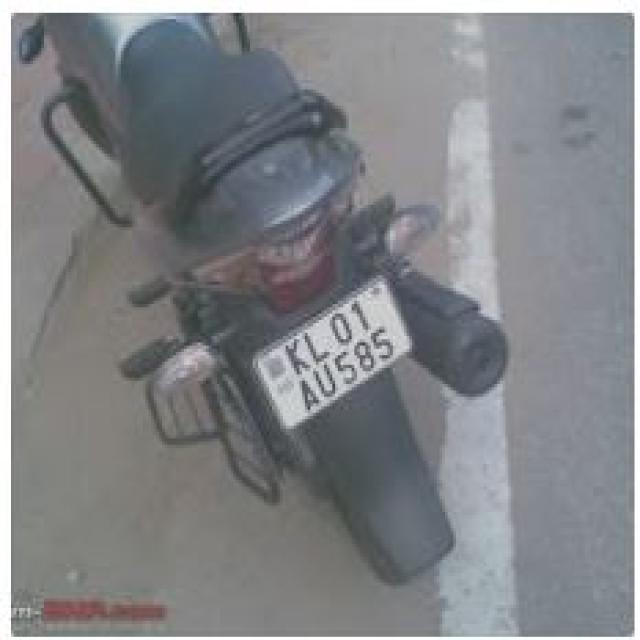license_plate: (250, 269, 412, 429)
